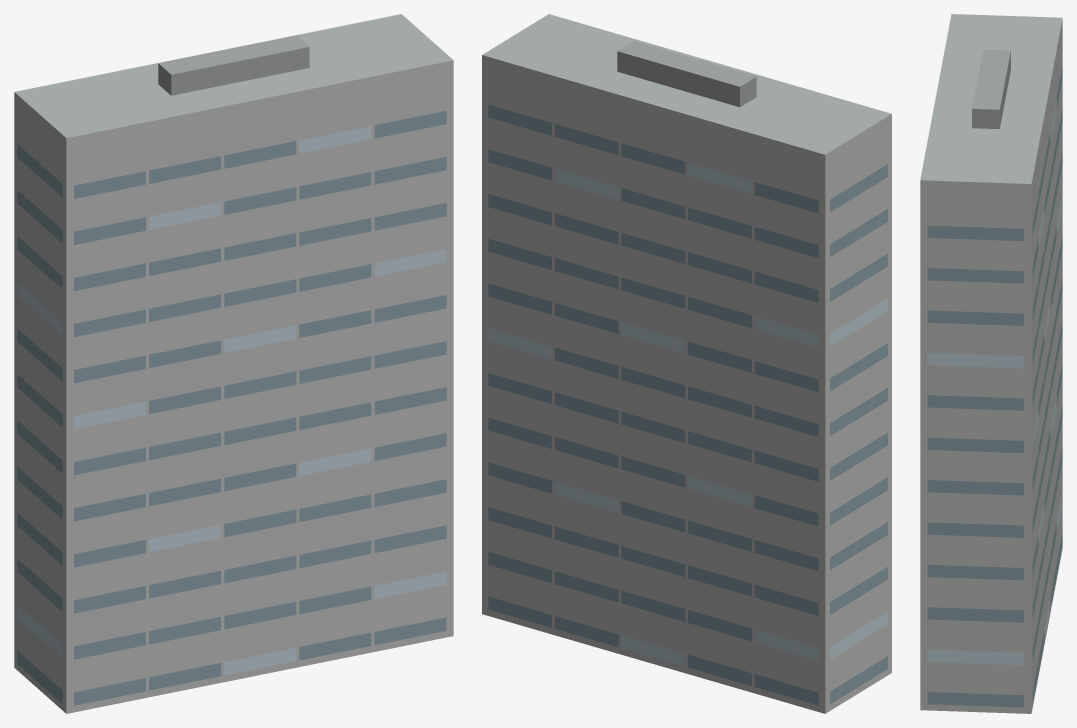
The model's file is fallback-sk-bukhansan-city-129.glb.
The picture shows the model from 3 angles, left to right: view 1: azimuth 30°, elevation 25°; view 2: azimuth 150°, elevation 25°; view 3: azimuth 270°, elevation 25°; orthographic projection. The views are drawn at different scales.
Parts seen in each view (by area): view 1: fallback-sk-bukhansan-city-129; view 2: fallback-sk-bukhansan-city-129; view 3: fallback-sk-bukhansan-city-129.
Part boxes in pixels (<box>): fallback-sk-bukhansan-city-129: <box>14,14,453,713</box>; fallback-sk-bukhansan-city-129: <box>482,14,891,713</box>; fallback-sk-bukhansan-city-129: <box>920,14,1062,713</box>.
Size of the model in its own units: 45.15 by 68 by 16.
